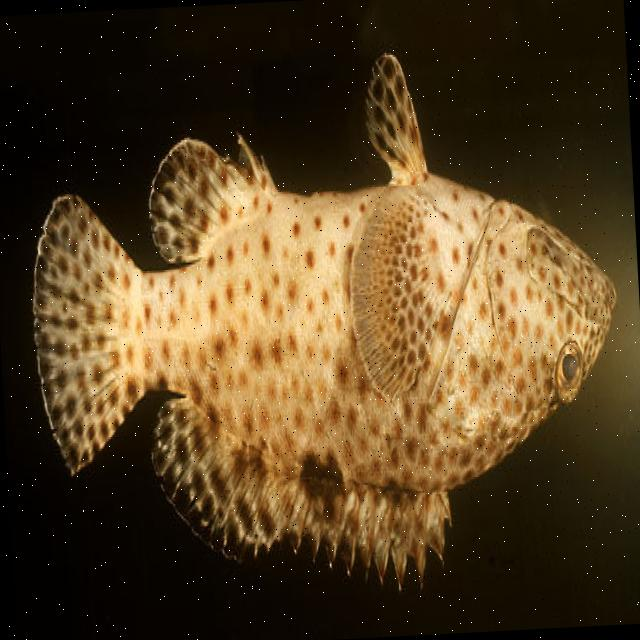ikan: (19, 39, 634, 613)
